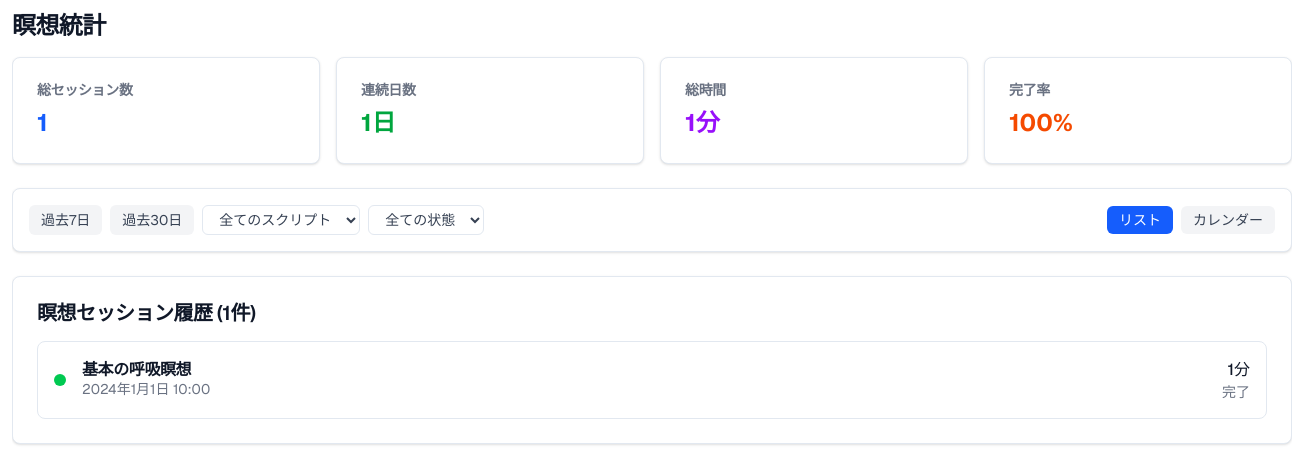
Test: MeditationHistory Integration › should handle empty filtered results
Note: Filter by completion status that doesn't match
Step 1. Select "未完了" in the dropdown showing "全ての状態" → {"x": 426, "y": 220}, box [368,205,484,235]
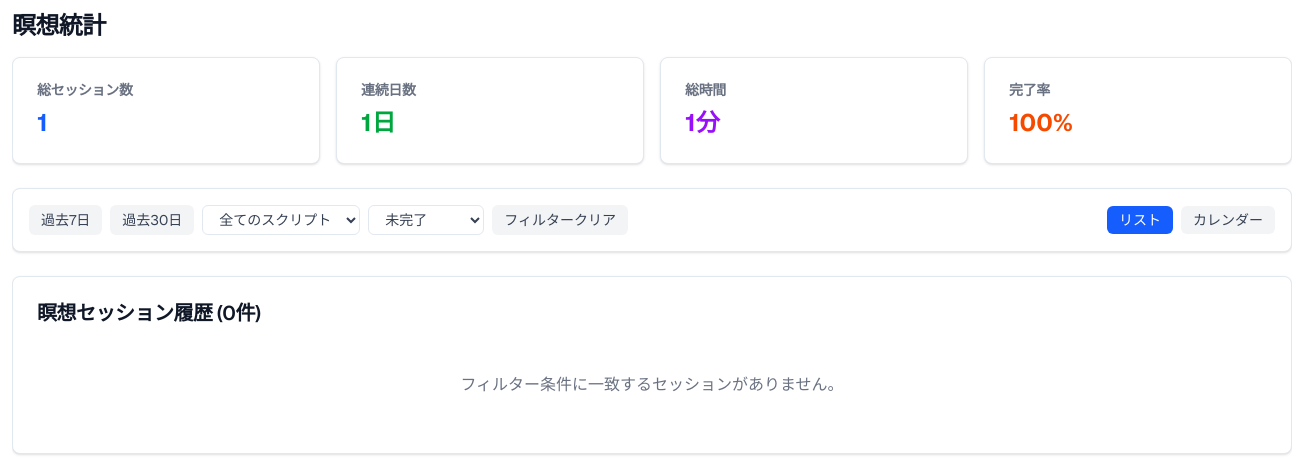
Expected: the text "フィルター条件に一致するセッションがありません。" is shown, [460,374,844,395]
Expected: the heading "瞑想セッション履歴 (0件)" is shown, [37,300,261,326]
